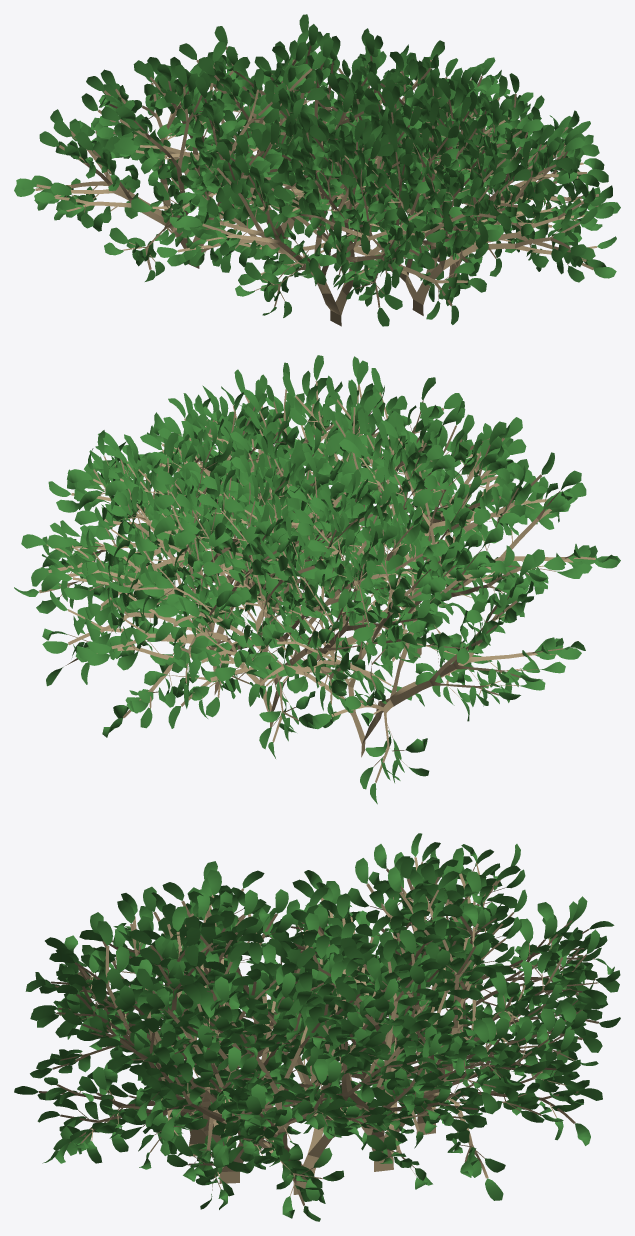
Rendered from Jade_Bush.fbx.
3 views of the same model, one above another, from view 1: azimuth 30°, elevation 25°; view 2: azimuth 150°, elevation 25°; view 3: azimuth 270°, elevation 25° (orthographic). The views are drawn at different scales.
Visible parts, largest first — view 1: jadeLight1Leaf; view 2: jadeLight1Leaf; view 3: jadeLight1Leaf.
Boxes of the visible parts, <box> form: jadeLight1Leaf: <box>14,14,620,326</box>; jadeLight1Leaf: <box>14,355,620,804</box>; jadeLight1Leaf: <box>14,833,620,1221</box>.
Bounding box in the file's own units: 12.38 × 5.22 × 11.86.
